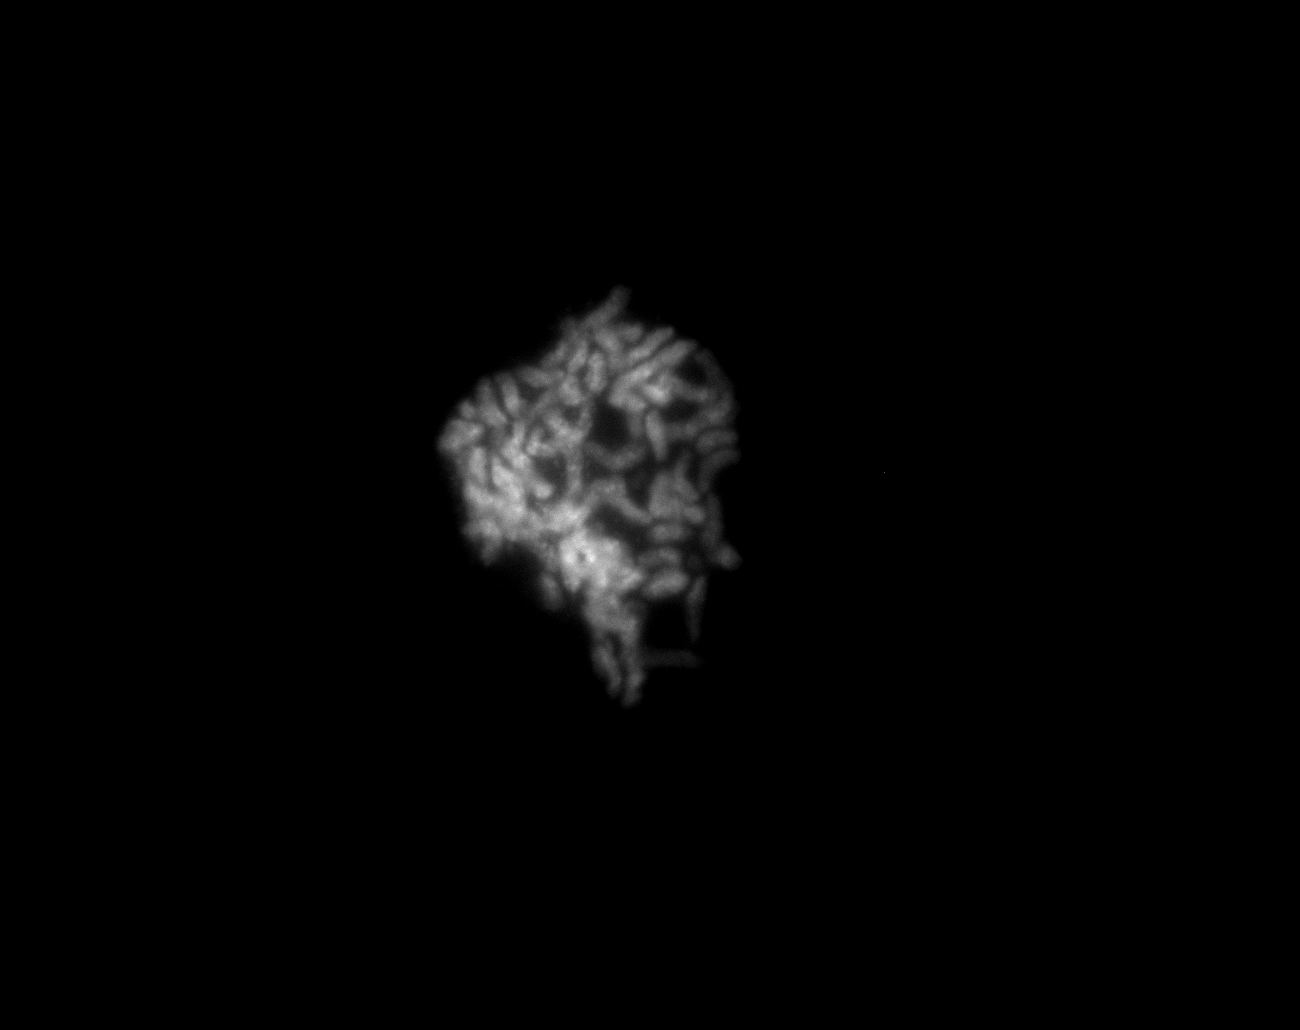Chromosomes: (384, 257, 794, 735)
